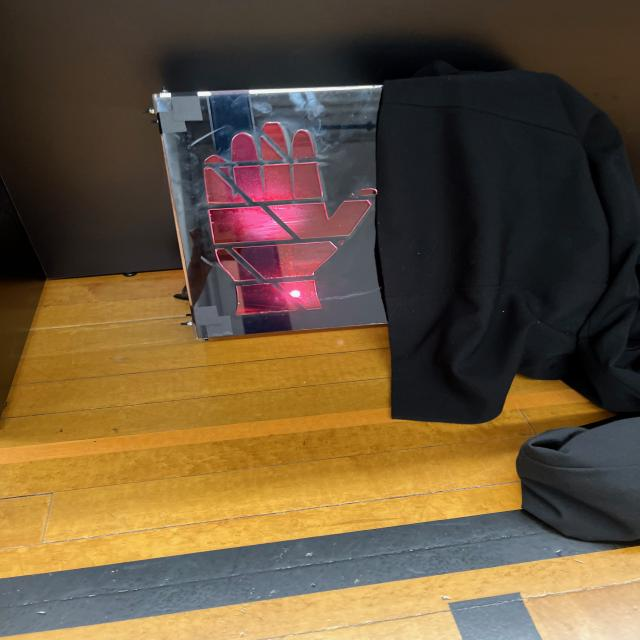stop: (174, 106, 384, 332)
